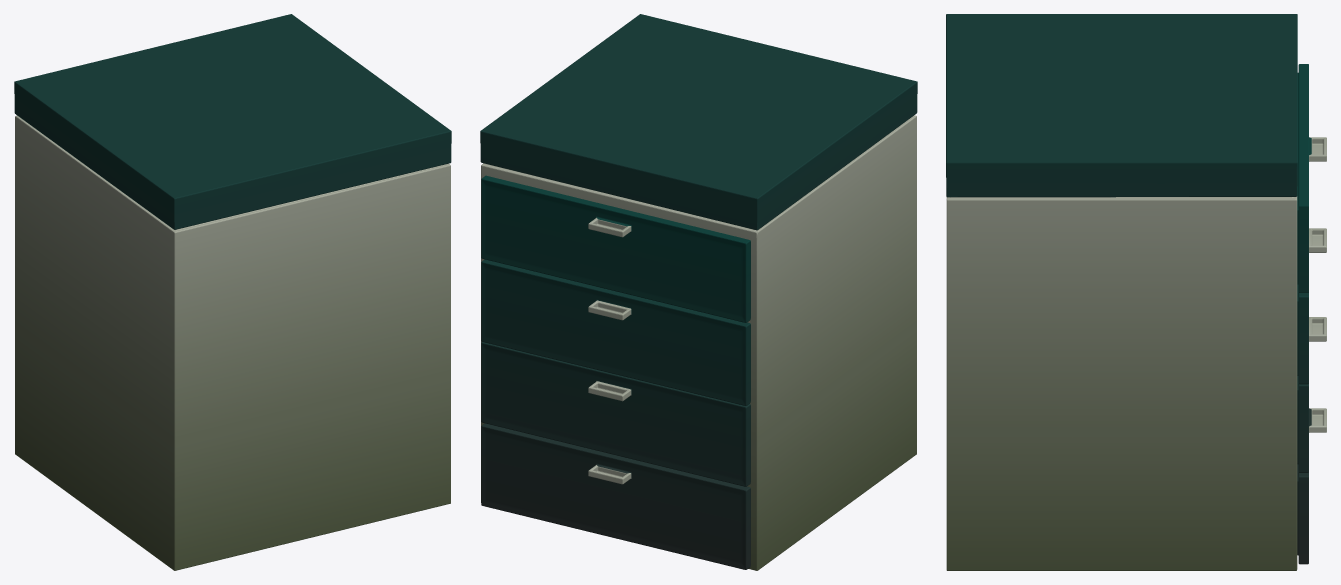
Rendered from CabinetDrawers2.fbx.
3 views of the same model, side by side, from view 1: azimuth 30°, elevation 25°; view 2: azimuth 150°, elevation 25°; view 3: azimuth 270°, elevation 25° (orthographic). The views are drawn at different scales.
Visible parts, largest first — view 1: Draws; view 2: Draws; view 3: Draws.
Boxes of the visible parts, x1,y1,x2,y2 form: Draws: (14,14,451,570); Draws: (480,14,917,570); Draws: (946,14,1326,570).
Bounding box in the file's own units: 201 × 258 × 217.
